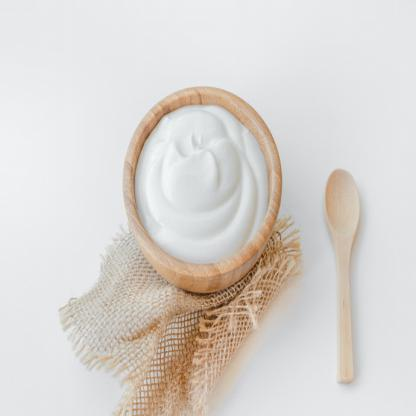yogurt: (133, 98, 270, 262)
